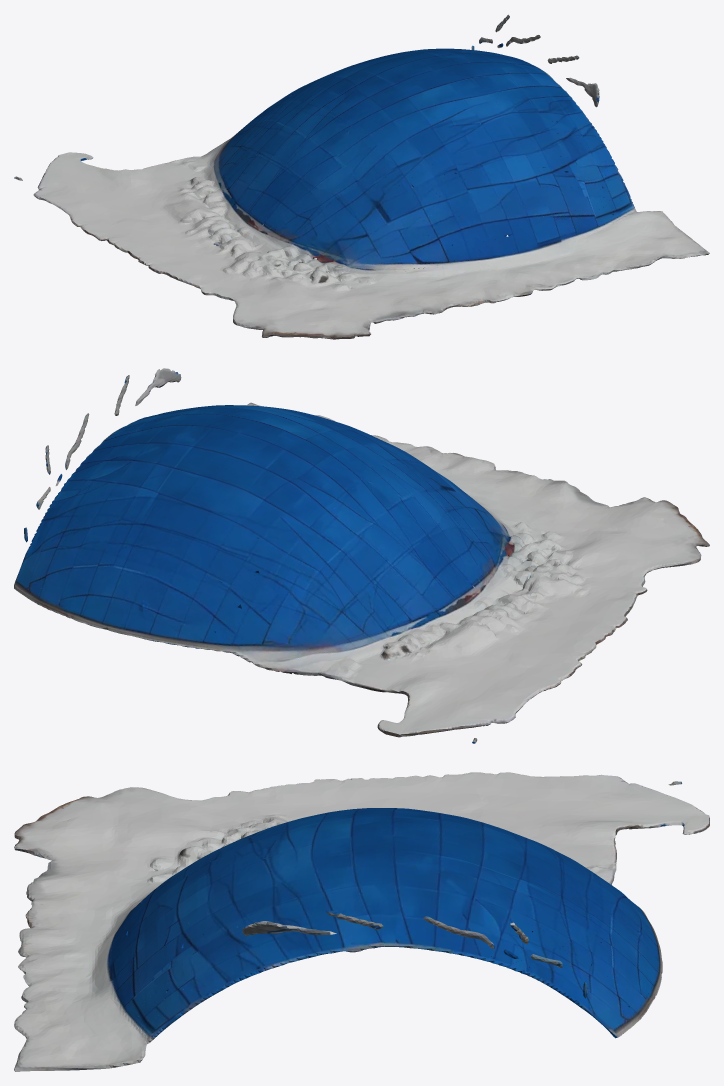
The model's file is man.glb.
3 views of the same model, one above another, from view 1: azimuth 30°, elevation 25°; view 2: azimuth 150°, elevation 25°; view 3: azimuth 270°, elevation 25° (orthographic). The views are drawn at different scales.
Visible parts, largest first — view 1: textured_mesh.obj; view 2: textured_mesh.obj; view 3: textured_mesh.obj.
Part boxes in pixels (bbox=[...]): textured_mesh.obj: bbox=[14, 14, 709, 339]; textured_mesh.obj: bbox=[14, 368, 709, 743]; textured_mesh.obj: bbox=[14, 772, 709, 1071].
Size of the model in its own units: 1.98 by 0.495 by 1.99.
1 material, 1 textured.
